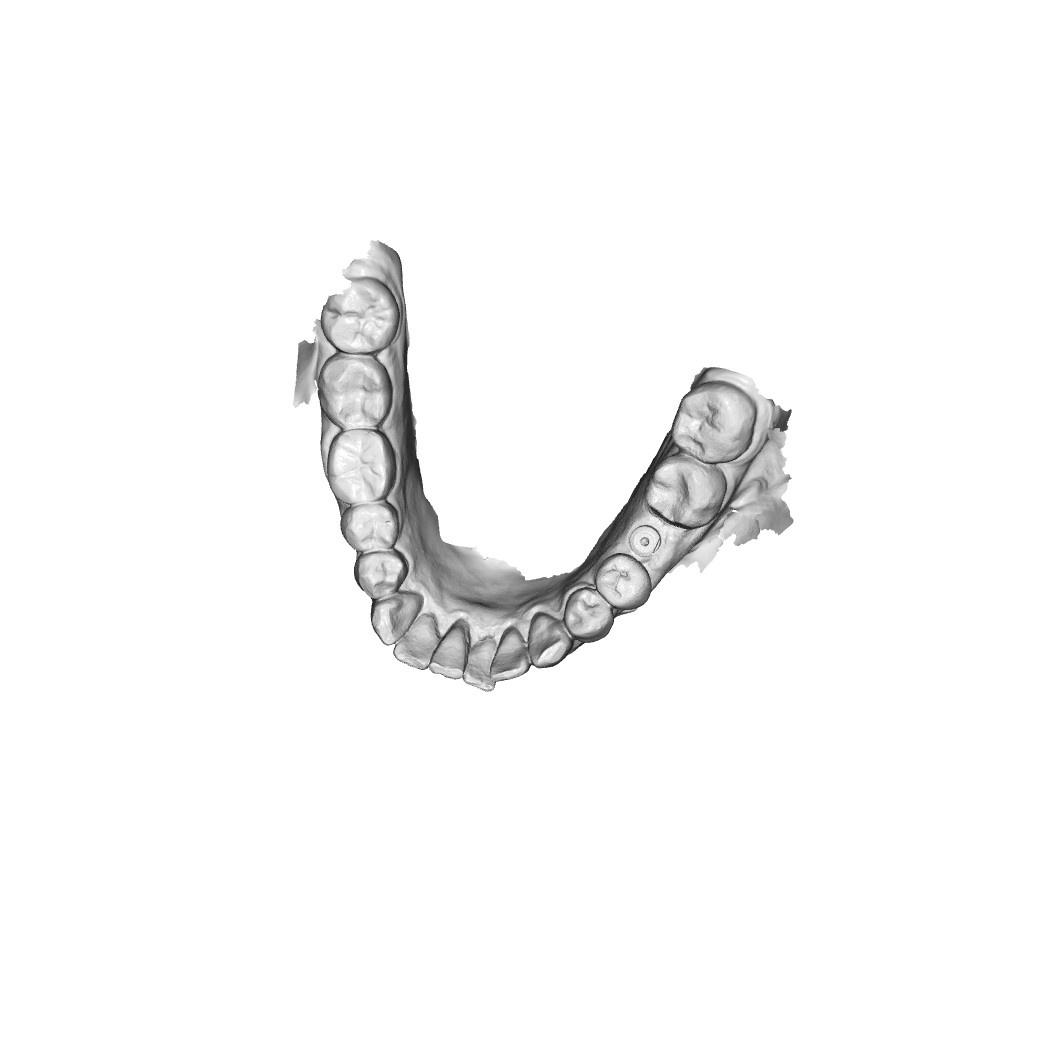canine: (370, 587, 423, 647), (526, 610, 572, 670)
implant: (628, 524, 665, 560)
incisor: (387, 615, 442, 670), (489, 627, 530, 684), (428, 623, 466, 684), (459, 637, 498, 695)
molar: (668, 381, 757, 465), (315, 351, 395, 432), (641, 454, 727, 528), (322, 283, 399, 356), (325, 429, 398, 504)
premolar: (592, 554, 650, 610), (339, 504, 401, 556), (351, 549, 412, 601), (563, 584, 613, 644)
